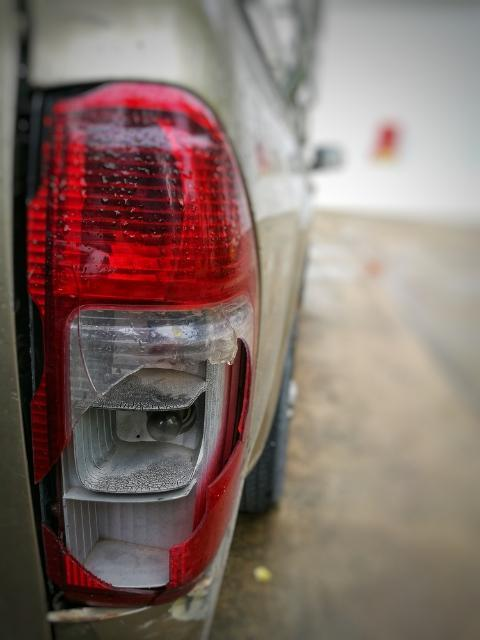lamp broken: (22, 78, 258, 611)
